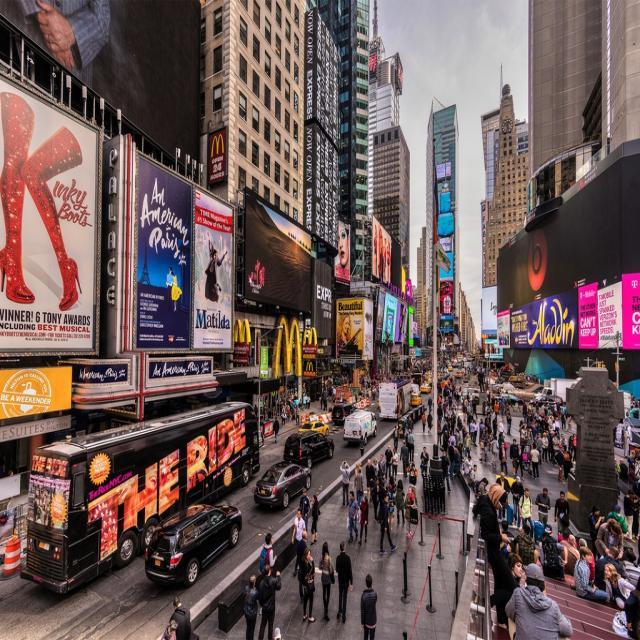body: (22, 0, 116, 75), (471, 480, 513, 632), (504, 559, 574, 639), (476, 351, 546, 390), (573, 544, 609, 604), (601, 560, 639, 611), (443, 375, 478, 430), (257, 562, 281, 639), (324, 363, 380, 396), (202, 230, 224, 310), (334, 539, 354, 623), (593, 544, 627, 592), (539, 530, 569, 581), (318, 539, 336, 621), (518, 397, 560, 431), (376, 492, 398, 555), (594, 516, 625, 560), (299, 546, 316, 624), (436, 345, 478, 376), (477, 388, 518, 419), (166, 593, 193, 639), (241, 574, 260, 639), (360, 572, 378, 640), (336, 309, 361, 357), (373, 223, 394, 280), (512, 522, 537, 568), (587, 503, 605, 564), (558, 533, 581, 579), (623, 576, 639, 640), (553, 489, 571, 544), (333, 222, 350, 280), (292, 507, 306, 576), (517, 486, 535, 539), (614, 448, 640, 484), (32, 484, 54, 526), (510, 474, 526, 531), (494, 470, 511, 523), (258, 532, 278, 577), (403, 484, 419, 540), (165, 262, 182, 313), (578, 537, 596, 585), (622, 488, 637, 544), (534, 486, 552, 530), (308, 492, 322, 547), (507, 551, 527, 588), (347, 489, 360, 545), (356, 493, 370, 545), (607, 503, 629, 534), (404, 355, 434, 377), (338, 458, 351, 507), (393, 479, 406, 526), (299, 486, 311, 534), (406, 462, 418, 510), (364, 458, 377, 502), (439, 450, 452, 492), (554, 442, 566, 484), (528, 440, 540, 481), (370, 476, 380, 524), (386, 483, 396, 531), (399, 436, 410, 478), (261, 393, 281, 416), (447, 439, 459, 477), (498, 440, 510, 477), (558, 528, 578, 550), (514, 442, 525, 482), (381, 363, 405, 381), (561, 444, 572, 483), (630, 493, 639, 540), (510, 438, 520, 480), (473, 475, 489, 501), (419, 445, 430, 482), (158, 619, 178, 639), (478, 427, 489, 463), (406, 428, 416, 465), (384, 444, 393, 484), (355, 466, 364, 504), (390, 446, 399, 483), (490, 434, 500, 467), (534, 516, 545, 546), (377, 453, 386, 489), (500, 519, 516, 539), (463, 431, 473, 460), (477, 408, 491, 428), (552, 431, 560, 464), (541, 431, 549, 462), (536, 434, 544, 465), (272, 414, 280, 443), (470, 463, 480, 486), (623, 423, 632, 448), (463, 454, 473, 476), (403, 429, 410, 460), (396, 389, 403, 420), (468, 418, 476, 445), (420, 411, 428, 437), (453, 452, 461, 478), (437, 413, 443, 447), (498, 328, 510, 345), (370, 456, 380, 476), (426, 411, 434, 436), (558, 433, 568, 453), (436, 378, 444, 403), (392, 424, 399, 452), (286, 390, 299, 405), (358, 433, 366, 457), (568, 433, 574, 465), (440, 420, 450, 438), (386, 474, 396, 491), (630, 391, 640, 408), (506, 408, 512, 436), (259, 419, 265, 446), (472, 419, 478, 446), (498, 419, 506, 439), (490, 413, 498, 433), (280, 403, 286, 429), (520, 431, 534, 442), (572, 433, 577, 463), (436, 403, 443, 424), (448, 432, 457, 448), (302, 392, 310, 410), (320, 394, 328, 412), (453, 426, 460, 446), (295, 404, 301, 426), (354, 460, 362, 476), (408, 416, 414, 435), (253, 402, 259, 421), (561, 402, 567, 420), (290, 405, 296, 423), (280, 390, 287, 405), (272, 627, 280, 640), (427, 394, 432, 413), (286, 404, 291, 422), (562, 410, 566, 430), (568, 414, 572, 430), (353, 395, 359, 403), (250, 353, 252, 368)
